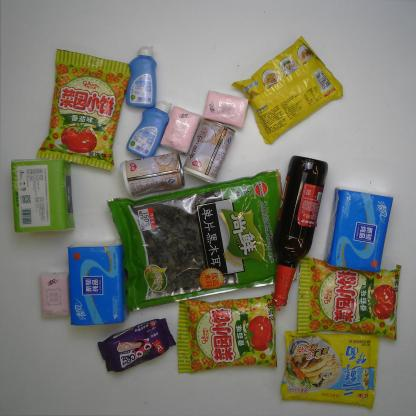Alcohol: (271, 155, 328, 307)
Canned Food: (183, 118, 236, 183), (120, 152, 185, 197)
Dessert: (97, 317, 177, 372)
Dried Food: (105, 168, 298, 313)
Instant Noodles: (231, 36, 343, 145), (278, 330, 378, 411)
Personal Hygiene: (126, 100, 172, 158), (125, 45, 157, 108)
Puffed Food: (36, 48, 132, 172), (295, 256, 402, 343), (177, 292, 278, 374)
Tissue: (324, 188, 394, 273), (67, 241, 128, 327), (10, 158, 76, 233), (160, 106, 202, 156), (203, 90, 249, 129), (39, 270, 71, 318)
